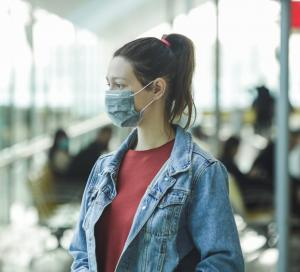with_mask: (100, 32, 204, 144)
